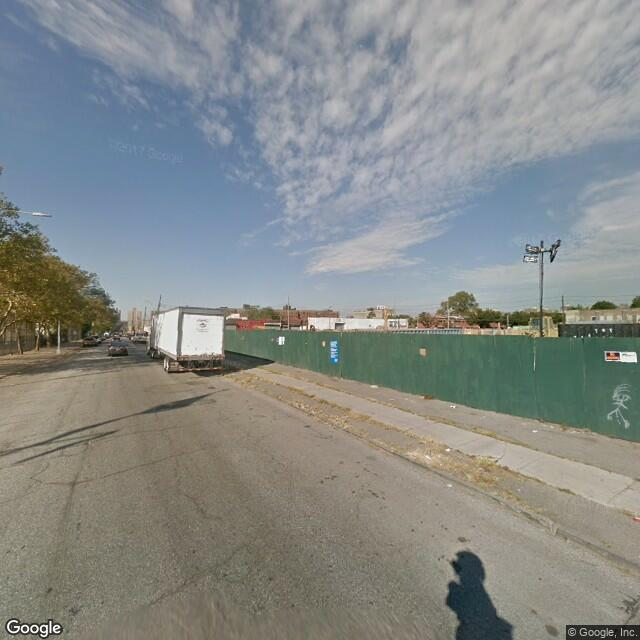litter: (368, 384, 381, 393), (450, 404, 466, 409), (448, 481, 458, 487), (443, 448, 454, 449)
